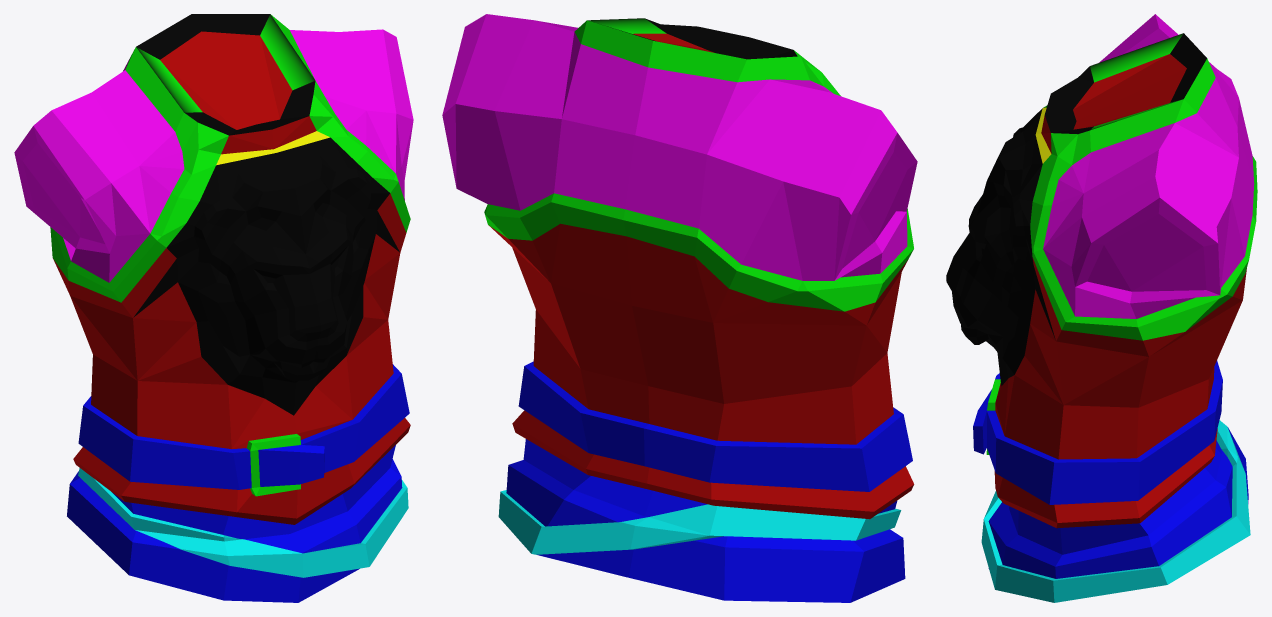
Rendered from Chr_Torso_Male_Static_23.fbx.
The picture shows the model from 3 angles, left to right: view 1: azimuth 30°, elevation 25°; view 2: azimuth 150°, elevation 25°; view 3: azimuth 270°, elevation 25°; orthographic projection. The views are drawn at different scales.
Parts seen in each view (by area): view 1: Chr_Torso_Male_23; view 2: Chr_Torso_Male_23; view 3: Chr_Torso_Male_23.
Boxes of the visible parts, bbox=[...] form: Chr_Torso_Male_23: bbox=[14, 14, 413, 602]; Chr_Torso_Male_23: bbox=[442, 14, 917, 602]; Chr_Torso_Male_23: bbox=[946, 14, 1257, 602].
Bounding box in the file's own units: 50.49 × 67.57 × 37.25.
